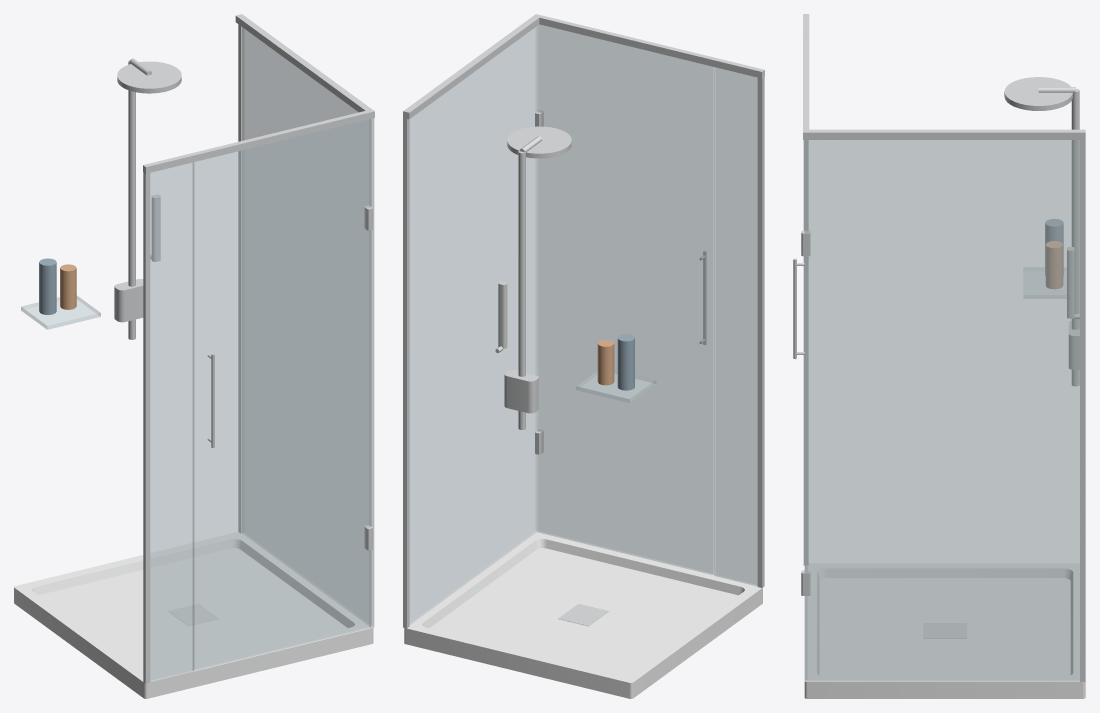
The picture shows the model from 3 angles, left to right: view 1: azimuth 30°, elevation 25°; view 2: azimuth 150°, elevation 25°; view 3: azimuth 270°, elevation 25°; orthographic projection. The views are drawn at different scales.
Visible parts, largest first — view 1: Vách tắm đứng Rộng=900; Sâu=900; view 2: Vách tắm đứng Rộng=900; Sâu=900; view 3: Vách tắm đứng Rộng=900; Sâu=900.
Part boxes in pixels (box(x1,y1,x2,y2)): Vách tắm đứng Rộng=900; Sâu=900: box(14, 14, 374, 698); Vách tắm đứng Rộng=900; Sâu=900: box(403, 14, 764, 698); Vách tắm đứng Rộng=900; Sâu=900: box(793, 14, 1085, 698).
Size of the model in its own units: 0.9 by 2 by 0.936.
